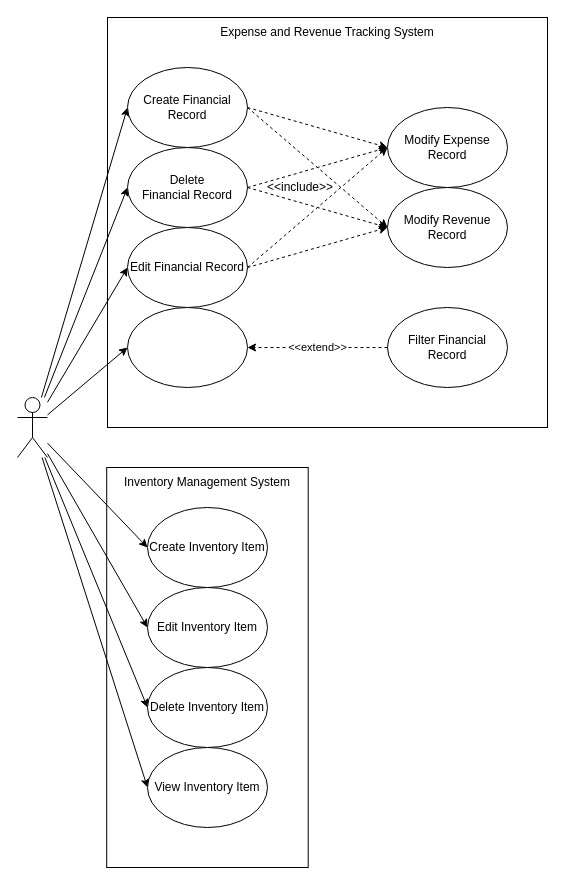
The diagram is 565 pixels wide and 885 high, and some of its shapes have lost their labels. The centre of each missing label's shape, as x and y in pixels:
"User" goes at (32,427).
"View Financial Record" goes at (187,347).
